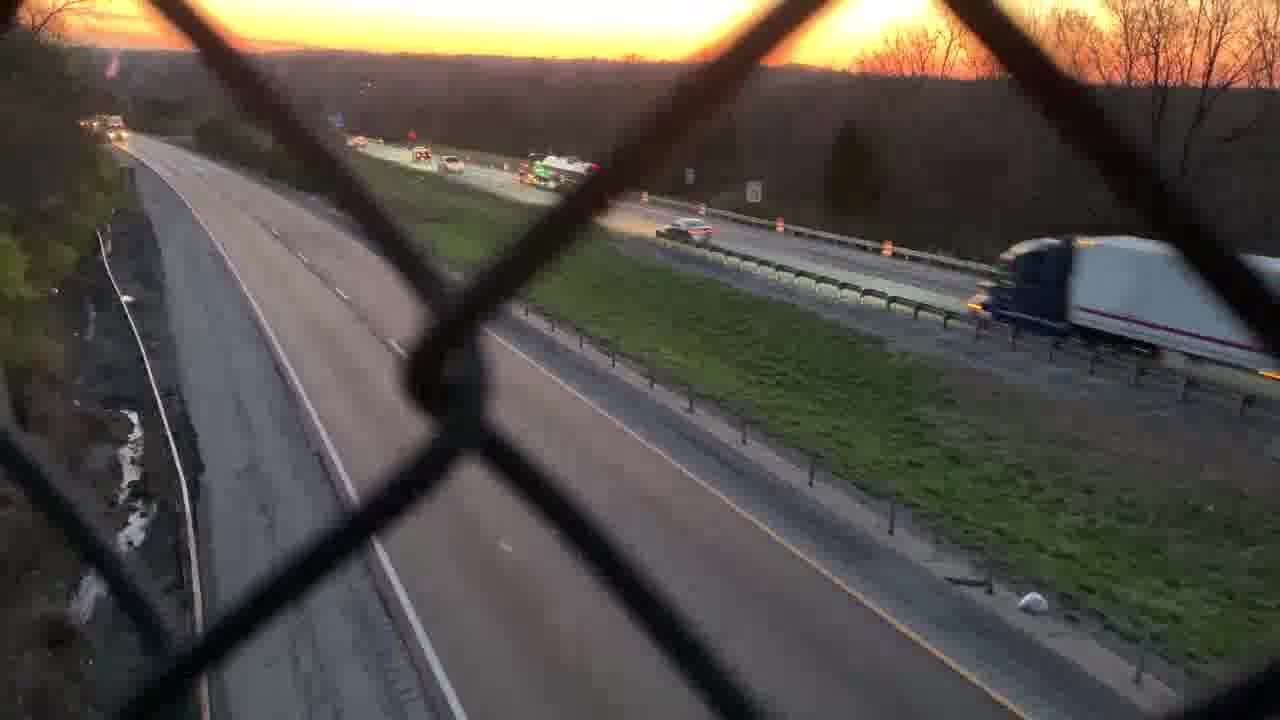heavyTruck: (969, 235, 1280, 383), (514, 152, 597, 187)
smallCar: (657, 215, 716, 242)
